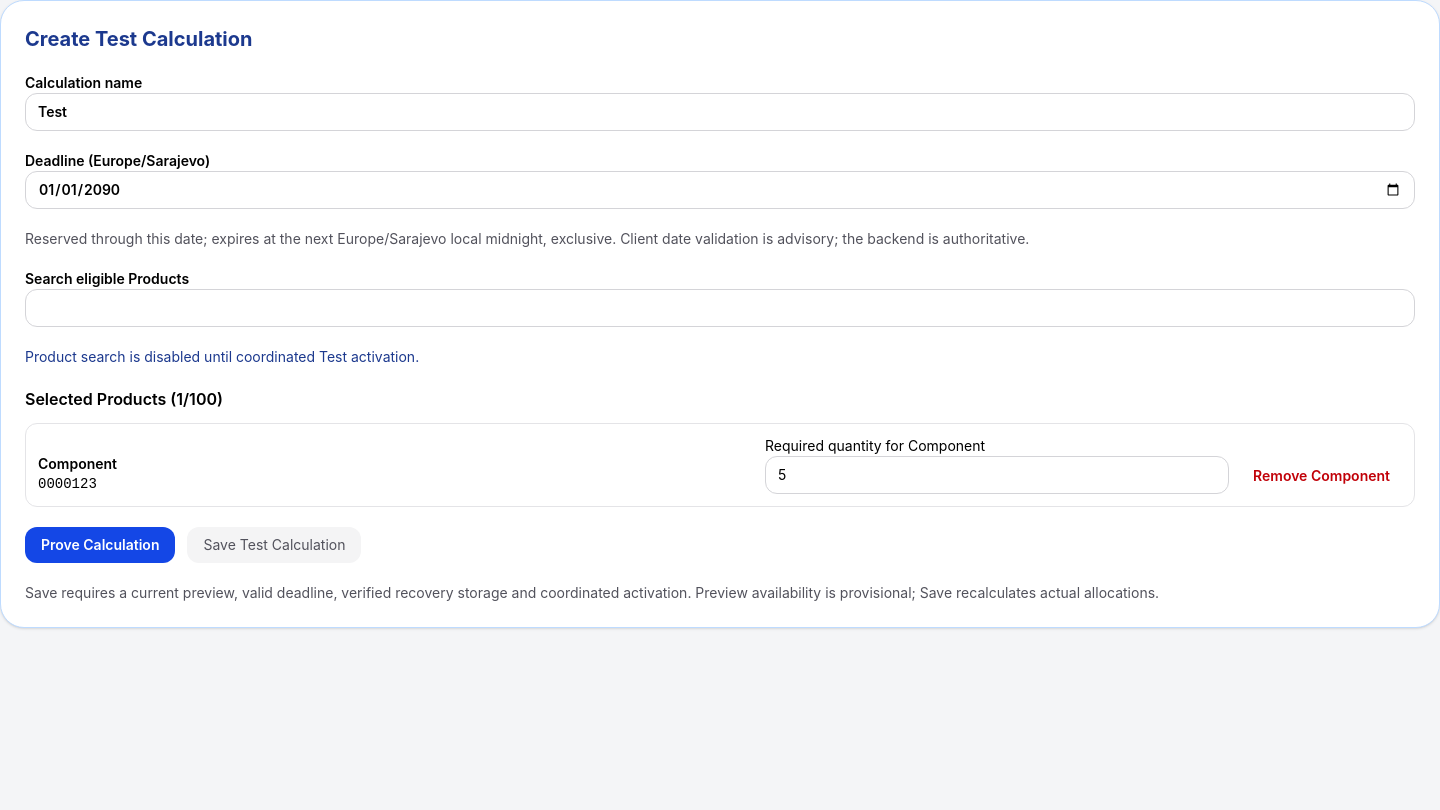
Test case: Test Save editor integration (mock services) › invalidates Save availability after editing a successful proof
Click the button "Prove Calculation" at (100, 545), box [25,527,176,563]
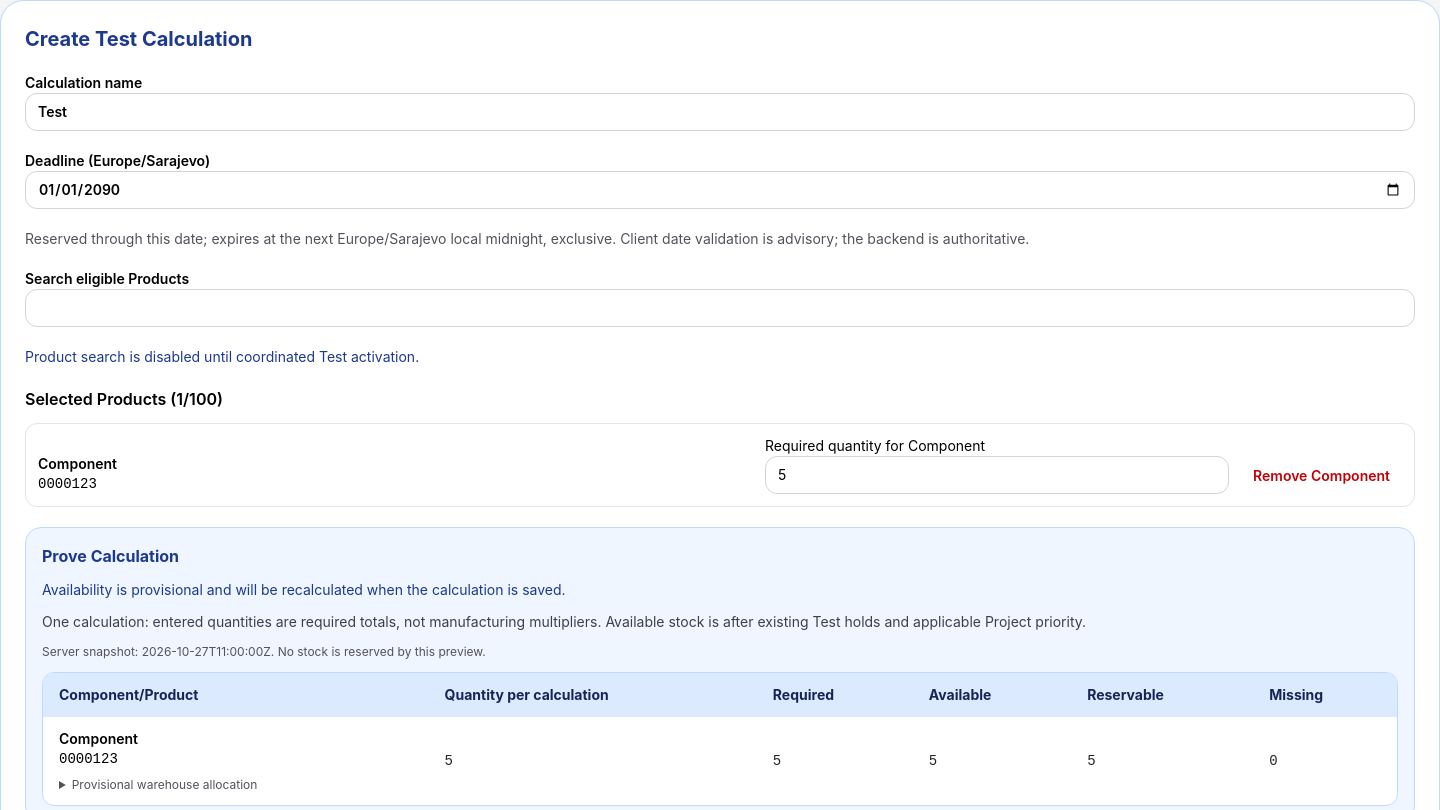
Replace the text in the field labelled "Calculation name" with "Edited" at (720, 112), box [25,93,1415,131]
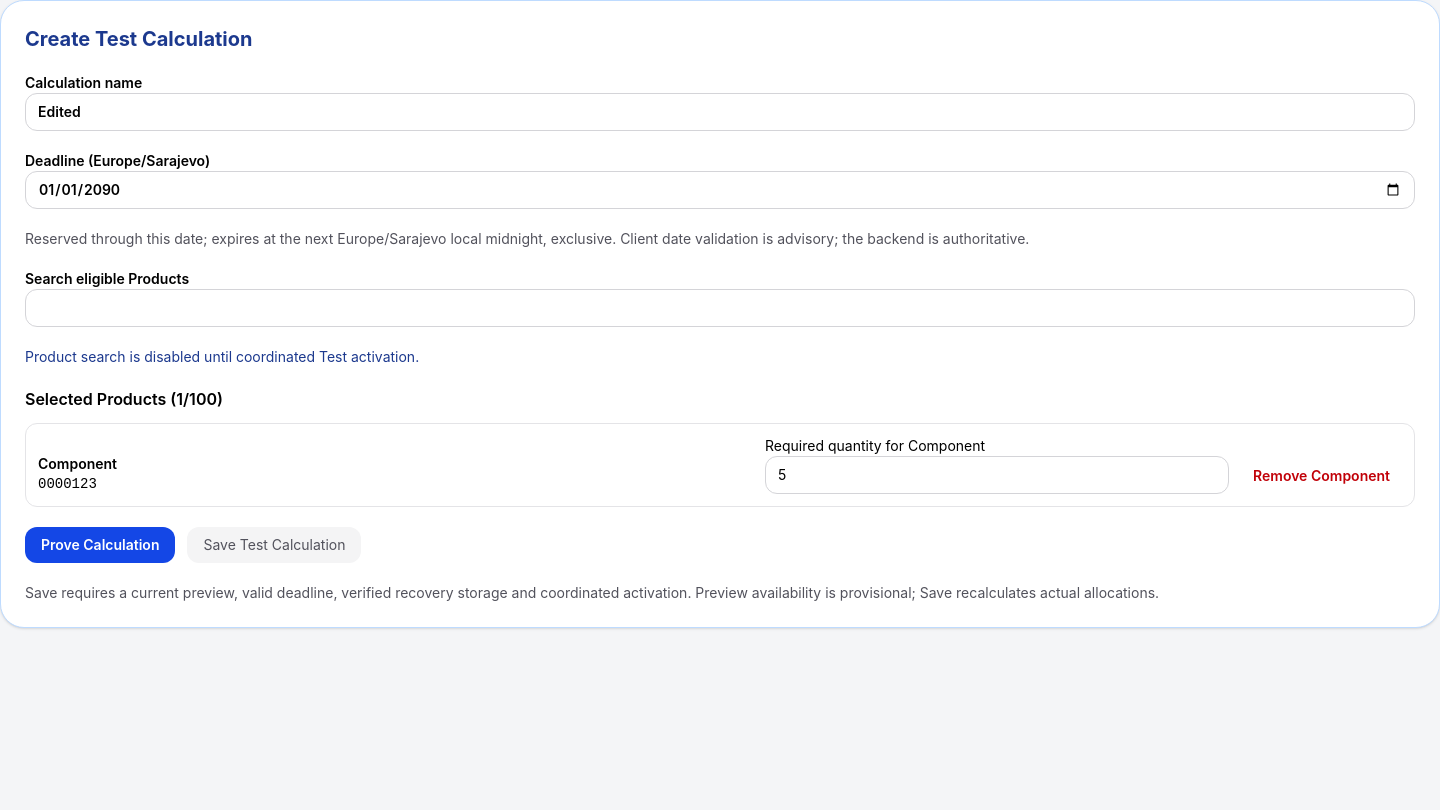
Now the button "Save Test Calculation" is disabled, box [188,527,362,563]
